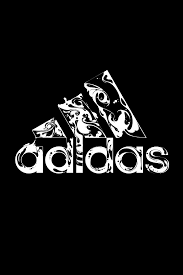vans: (13, 70, 171, 175)
